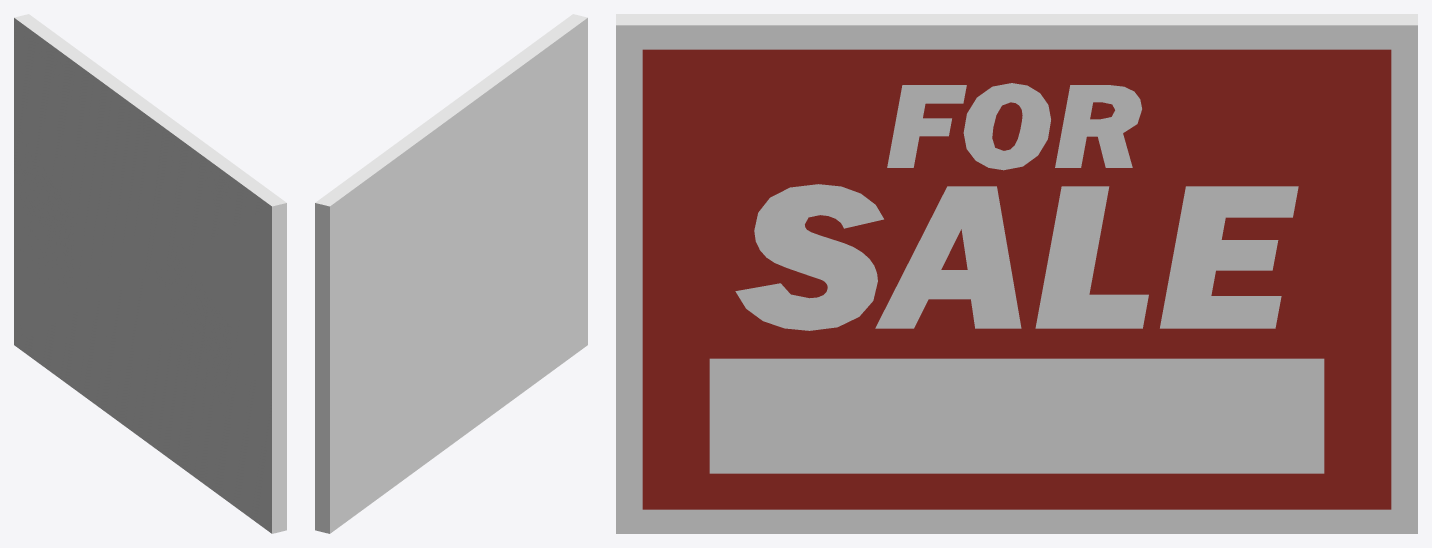
Rendered from SM_billboard_forSale.gltf.
3 renders of one model, left to right at view 1: azimuth 30°, elevation 25°; view 2: azimuth 150°, elevation 25°; view 3: azimuth 270°, elevation 25°, orthographic. The views are drawn at different scales.
Parts seen in each view (by area): view 1: SM_billboard_forSale; view 2: SM_billboard_forSale; view 3: SM_billboard_forSale.
Part boxes in pixels (bbox=[...]): SM_billboard_forSale: bbox=[14, 14, 286, 533]; SM_billboard_forSale: bbox=[315, 14, 587, 533]; SM_billboard_forSale: bbox=[616, 14, 1417, 533].
Size of the model in its own units: 0.0825 by 1.57 by 2.25.
Materials: 1 (1 with a texture image).
